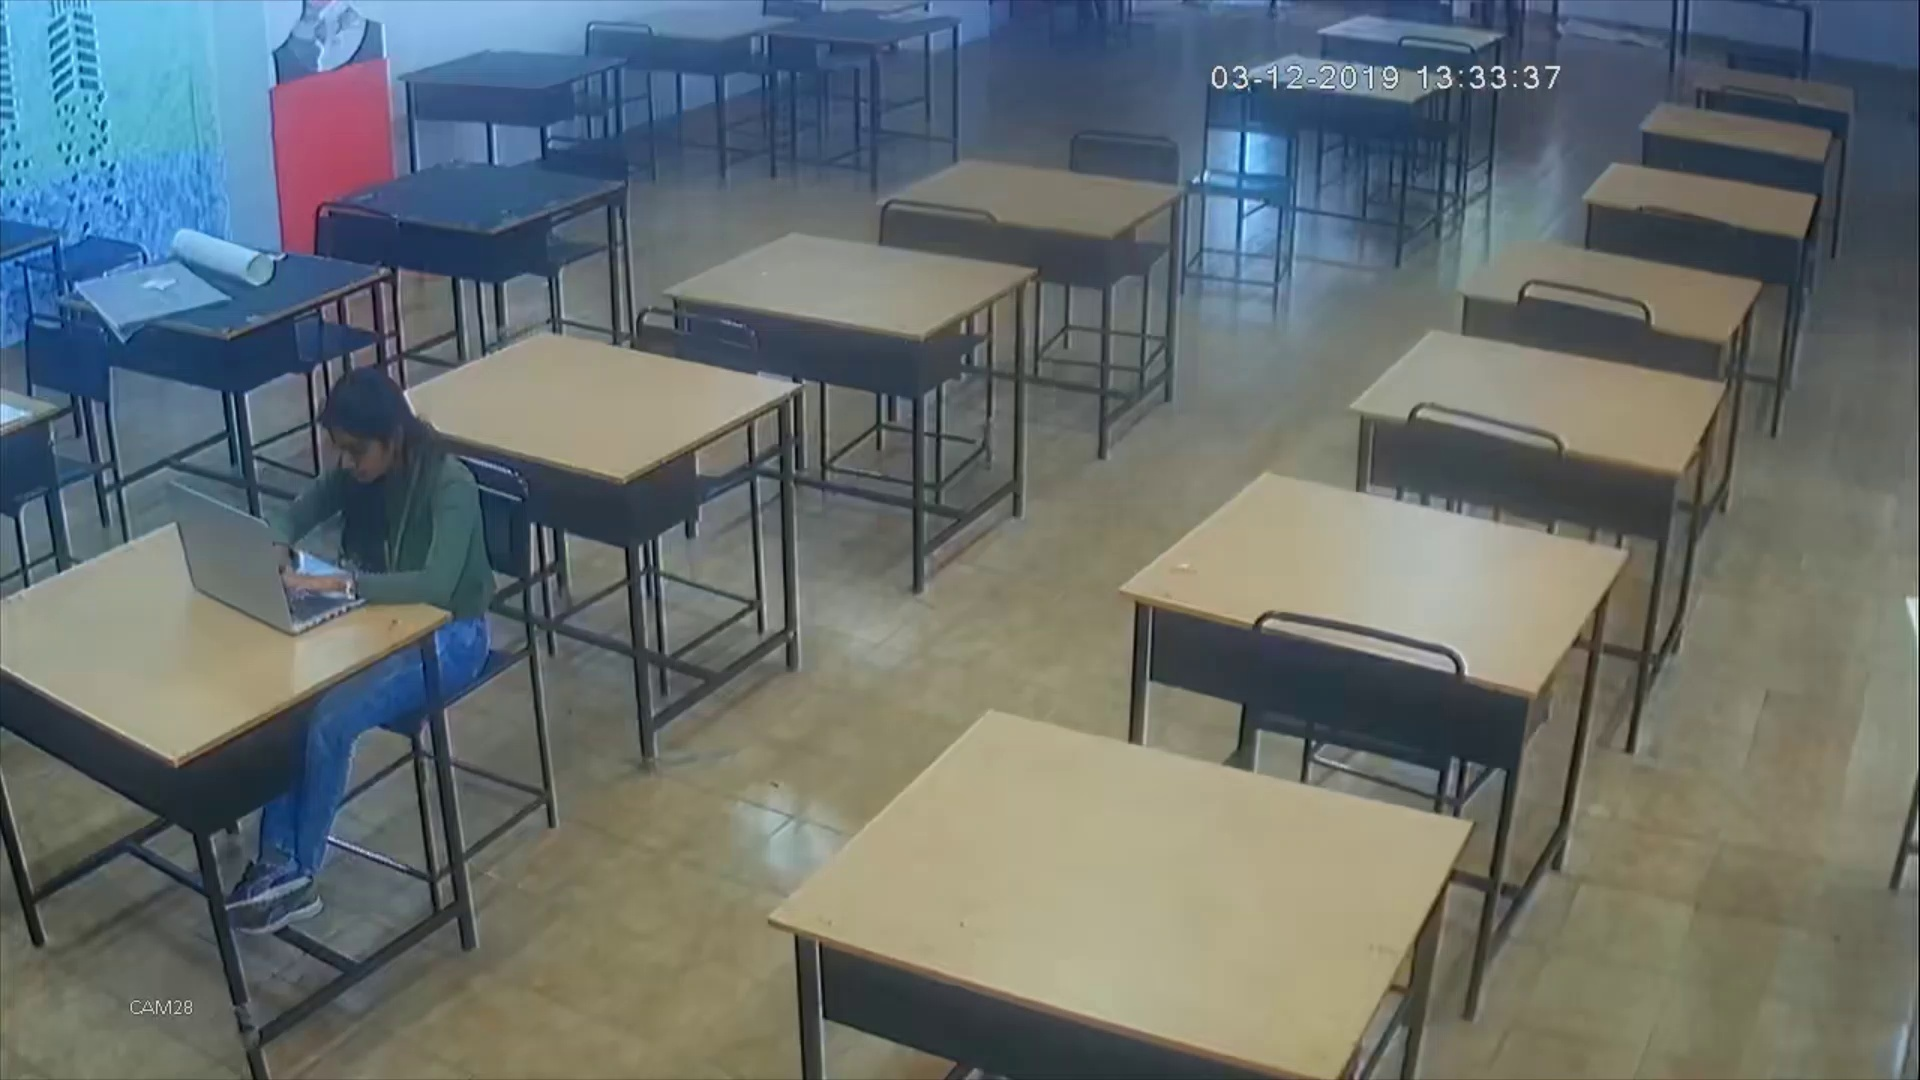desk: (1122, 449, 1634, 1025), (778, 705, 1472, 1074), (7, 585, 486, 1075), (390, 323, 807, 774), (1351, 305, 1726, 769), (668, 204, 1046, 596), (878, 135, 1201, 461), (1453, 230, 1752, 531), (1579, 144, 1824, 446), (326, 153, 643, 351), (1642, 85, 1831, 329)
laptop: (163, 473, 364, 636)
person: (304, 387, 480, 881)
